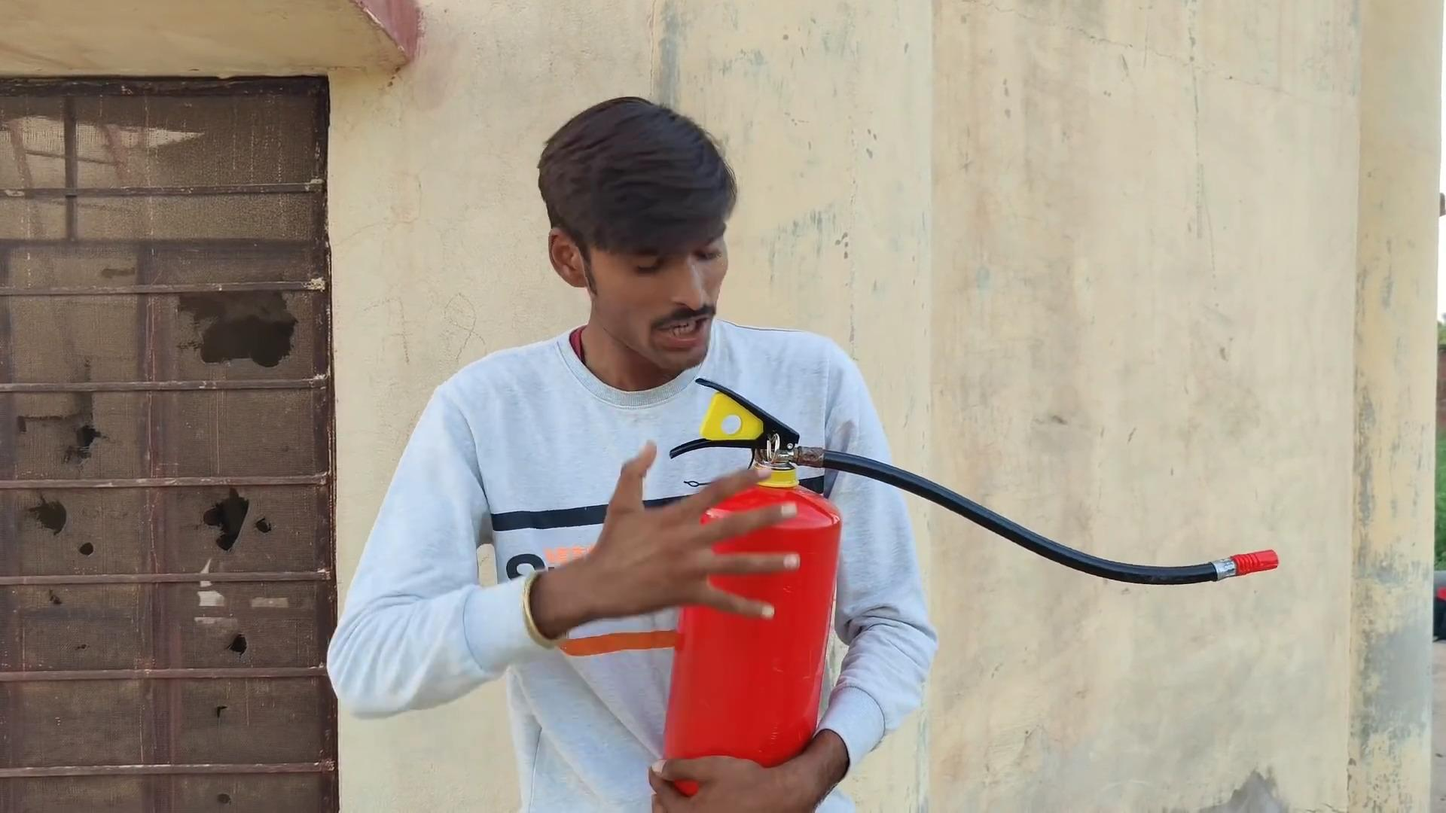FireExtinguisher: (652, 428, 860, 813)
